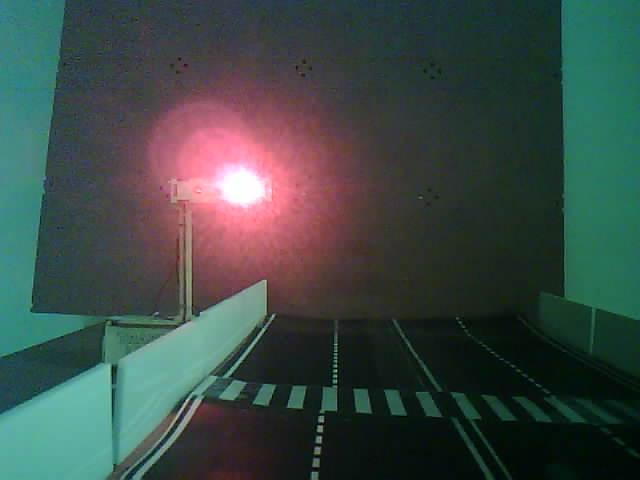crosswalk: (175, 352, 636, 439)
red: (159, 163, 290, 345)
